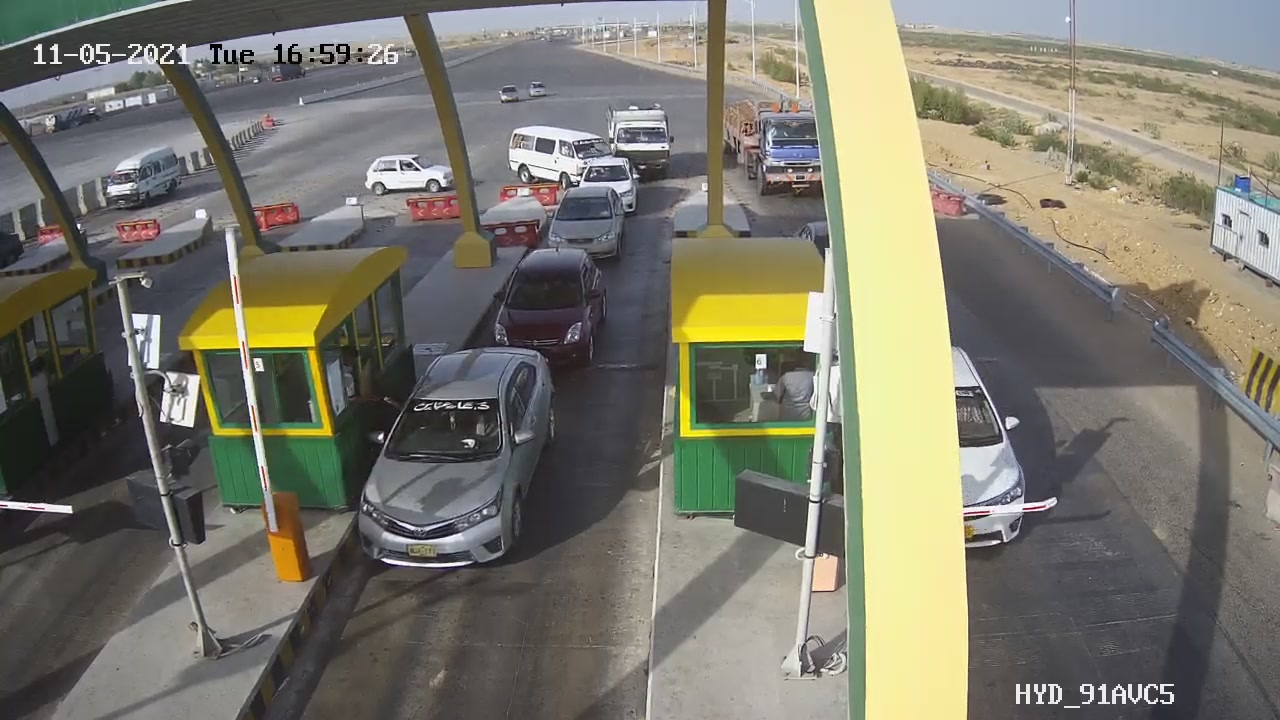F1: (344, 329, 580, 581), (475, 234, 623, 390), (532, 177, 640, 276)
